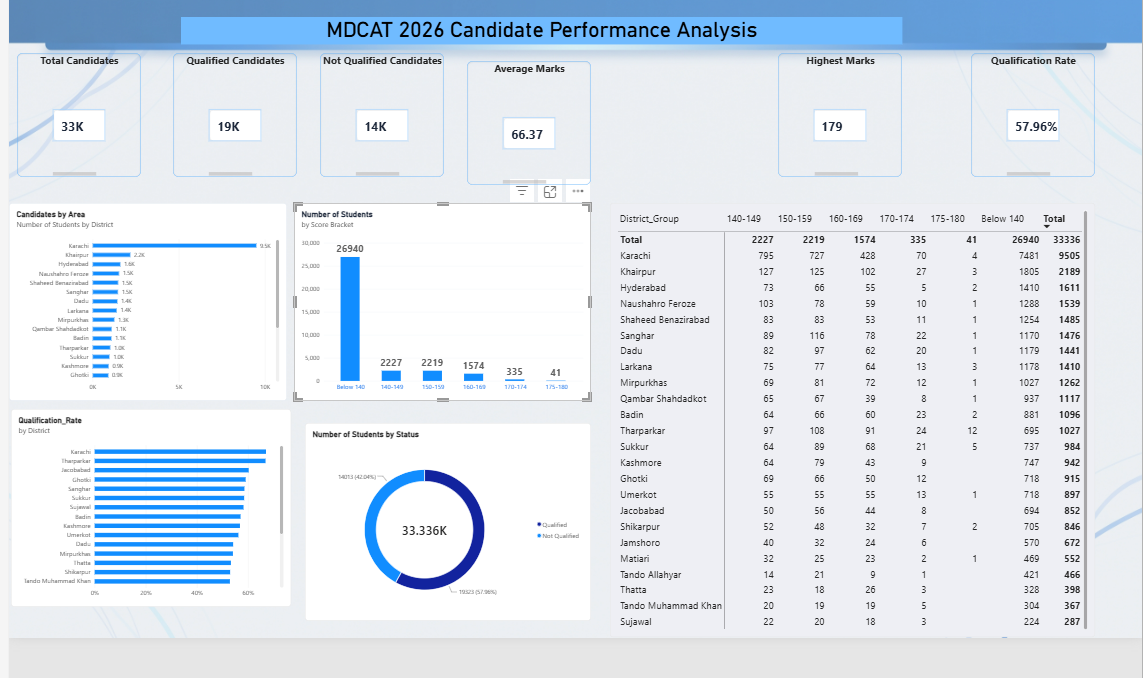

What the dashboard file says about the page in this screenshot:
{"tool":"powerbi","page":{"name":"Page 1","canvas":[2560,1440],"ordinal":0},"visuals":[{"type":"cardVisual","title":"Total Candidates","fields":{"Data":["Count(MDCAT_Result_2026.Seat No)"]},"box":[17.8,119.1,280,280],"z":0},{"type":"textbox","title":"MDCAT 2026 Candidate Performance Analysis","box":[388.6,38.4,1630.2,62.2],"z":1000},{"type":"cardVisual","title":"Qualified Candidates ","fields":{"Data":["MDCAT_Result_2026.Qualified Candidates"]},"box":[369.7,119.1,280,280],"z":2000},{"type":"cardVisual","title":"Highest Marks ","fields":{"Data":["MDCAT_Result_2026.Highest Marks"]},"box":[1738.4,119.9,280,280],"z":3000},{"type":"cardVisual","title":"Not Qualified Candidates","fields":{"Data":["MDCAT_Result_2026.Not Qualified Candidates"]},"box":[701.8,119.1,280,280],"z":4000},{"type":"cardVisual","title":"Qualification Rate","fields":{"Data":["MDCAT_Result_2026.Qualification_Rate"]},"box":[2174.1,119.9,280,280],"z":6000},{"type":"clusteredColumnChart","fields":{"Category":["MDCAT_Result_2026.Score Bracket"],"Y":["CountNonNull(MDCAT_Result_2026.Seat No)"]},"box":[644,458.7,671,447],"z":10000},{"type":"clusteredBarChart","title":"Candidates by Area","fields":{"Category":["MDCAT_Result_2026.District_Group"],"Y":["CountNonNull(MDCAT_Result_2026.Seat No)"]},"box":[4.5,458.7,628.1,447.4],"z":10003},{"type":"clusteredBarChart","fields":{"Category":["MDCAT_Result_2026.District_Group"],"Y":["MDCAT_Result_2026.Qualification_Rate"]},"box":[4.5,924.1,632.7,447.4],"z":10004},{"type":"donutChart","title":"Number of Students by Status","fields":{"Category":["MDCAT_Result_2026.Qualification_Status"],"Y":["Count(MDCAT_Result_2026.Seat No)"]},"box":[668.8,955.8,646.2,447.4],"z":10005},{"type":"pivotTable","fields":{"Columns":["MDCAT_Result_2026.Score Bracket"],"Rows":["MDCAT_Result_2026.District_Group"],"Values":["Count(MDCAT_Result_2026.Seat No)"]},"box":[1358,458.7,1095.9,980.6],"z":10006},{"type":"cardVisual","title":"Average Marks","fields":{"Data":["Avg(MDCAT_Result_2026.Obtained Marks)"]},"box":[1034.8,137.8,280,280],"z":10007}]}

Visuals, with their boxes on the page's 2560x1440 design canvas (x1, y1, x2, y2). These are canvas units, not pixel positions in the 1143x678 screenshot, which may show the page scaled, cropped or inside an application window:
"Total Candidates" cardVisual: <bbox>18, 119, 298, 399</bbox>
"MDCAT 2026 Candidate Performance Analysis" textbox: <bbox>389, 38, 2019, 101</bbox>
"Qualified Candidates " cardVisual: <bbox>370, 119, 650, 399</bbox>
"Highest Marks " cardVisual: <bbox>1738, 120, 2018, 400</bbox>
"Not Qualified Candidates" cardVisual: <bbox>702, 119, 982, 399</bbox>
"Qualification Rate" cardVisual: <bbox>2174, 120, 2454, 400</bbox>
clusteredColumnChart - MDCAT_Result_2026.Score Bracket x CountNonNull(MDCAT_Result_2026.Seat No): <bbox>644, 459, 1315, 906</bbox>
"Candidates by Area" clusteredBarChart: <bbox>4, 459, 633, 906</bbox>
clusteredBarChart - MDCAT_Result_2026.District_Group x MDCAT_Result_2026.Qualification_Rate: <bbox>4, 924, 637, 1372</bbox>
"Number of Students by Status" donutChart: <bbox>669, 956, 1315, 1403</bbox>
pivotTable - MDCAT_Result_2026.Score Bracket x MDCAT_Result_2026.District_Group: <bbox>1358, 459, 2454, 1439</bbox>
"Average Marks" cardVisual: <bbox>1035, 138, 1315, 418</bbox>
